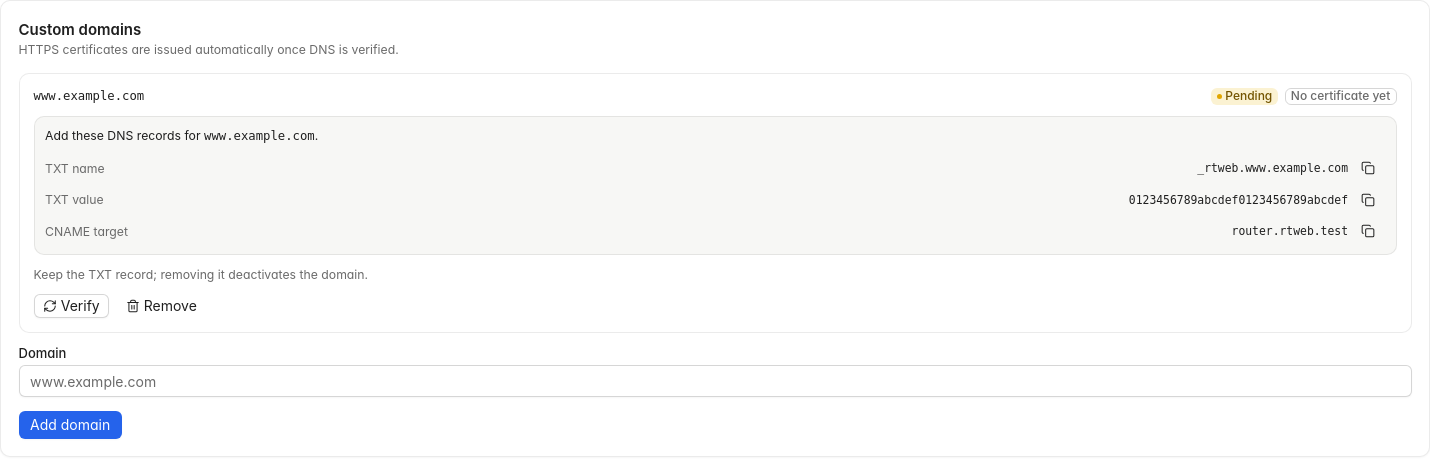
DomainsPanel › verify button re-checks a pending domain
The width and height of the screenshot is (1440, 474).
Step 1. Click the button with aria-label "Verify www.example.com" → (72, 306), box [34,294,110,318]
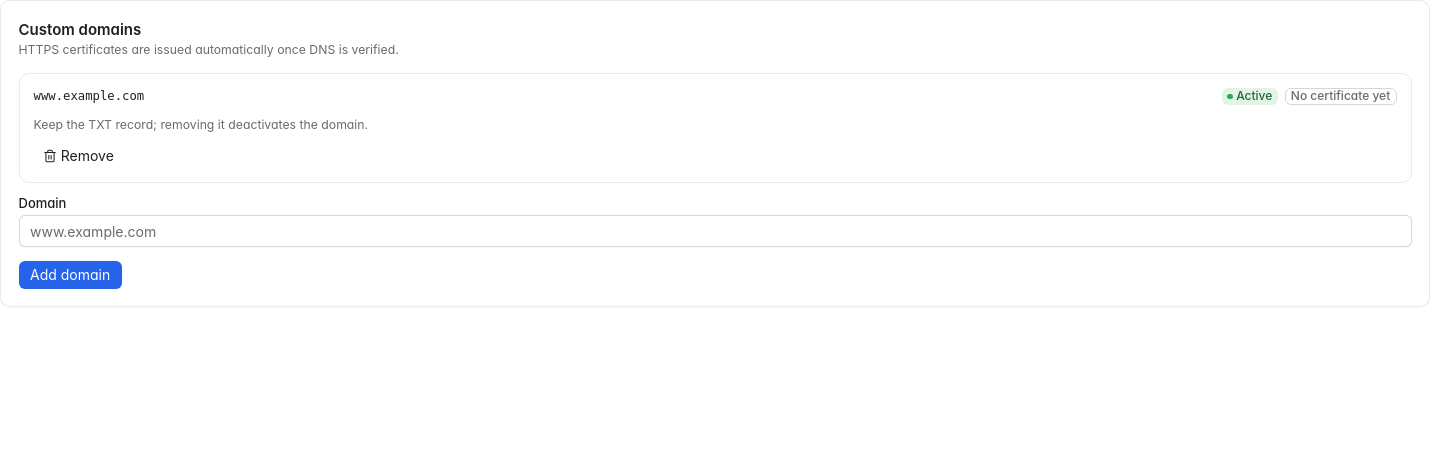
Result: the text "Active" is shown at [1222,88,1278,105]
